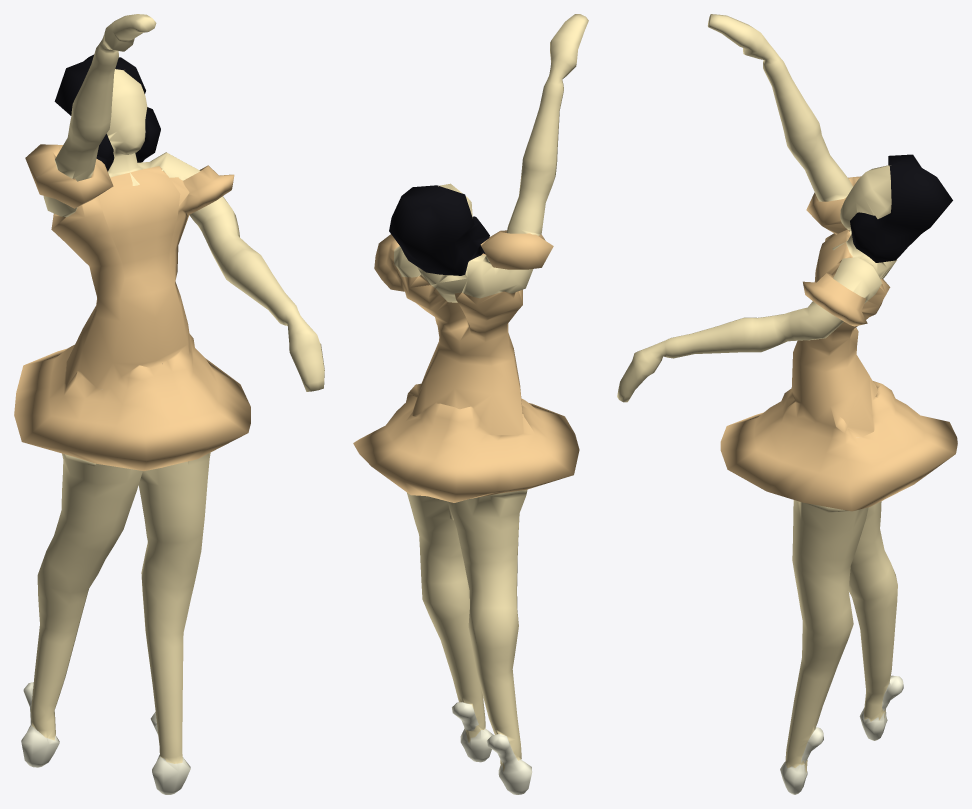
The model's file is dancer.glb.
3 renders of one model, left to right at view 1: azimuth 30°, elevation 25°; view 2: azimuth 150°, elevation 25°; view 3: azimuth 270°, elevation 25°, orthographic. The views are drawn at different scales.
Bounding box in the file's own units: 0.2933 × 1 × 0.4148.
1 material, 1 textured.
